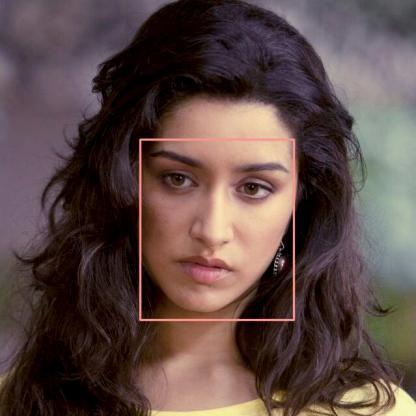without_mask: (140, 139, 294, 320)
